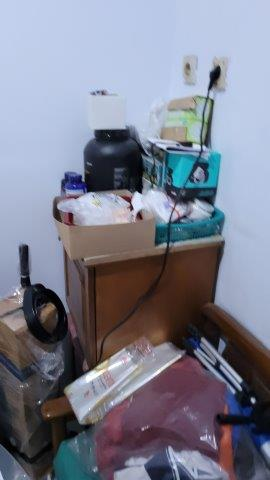plastik: (57, 189, 132, 223)
